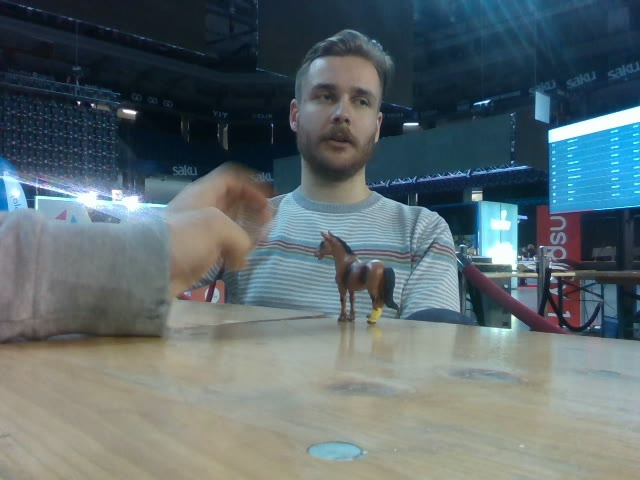toy: (310, 227, 404, 328)
